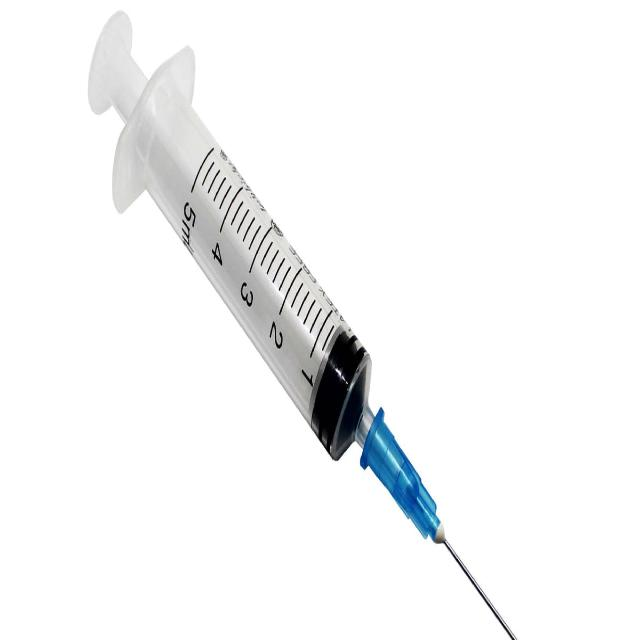syringe: (87, 7, 517, 637)
